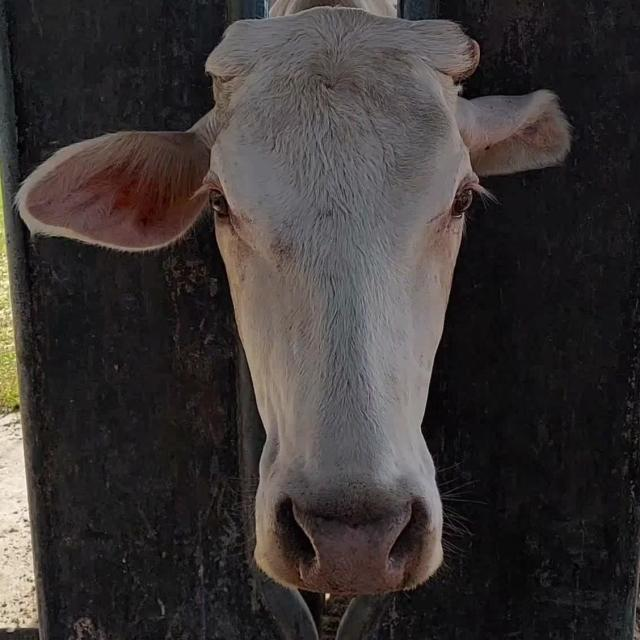cowFace: (205, 7, 477, 596)
